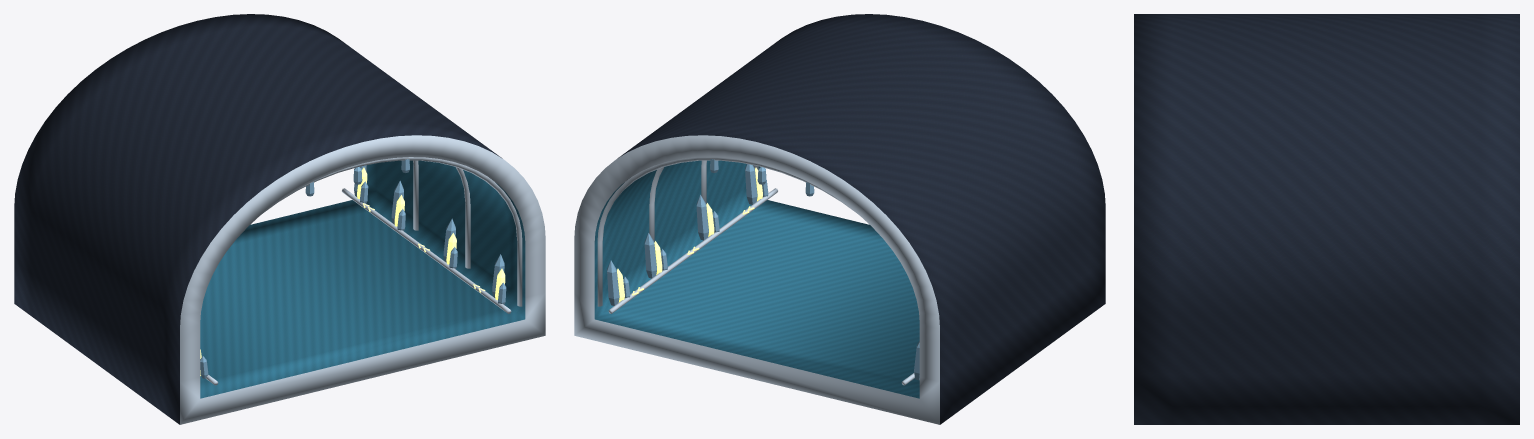
Rendered from straight_12m_lod1.glb.
The picture shows the model from 3 angles, left to right: view 1: azimuth 30°, elevation 25°; view 2: azimuth 150°, elevation 25°; view 3: azimuth 270°, elevation 25°; orthographic projection. The views are drawn at different scales.
Visible parts, largest first — view 1: TunnelGeometry.001; view 2: TunnelGeometry.001; view 3: TunnelGeometry.001.
Boxes of the visible parts, left/top/right/bottom form: TunnelGeometry.001: left=14, top=14, right=545, bottom=424; TunnelGeometry.001: left=574, top=14, right=1105, bottom=424; TunnelGeometry.001: left=1134, top=14, right=1519, bottom=424.
Size of the model in its own units: 15.3 by 9.52 by 12.
5 materials, 2 textured.
